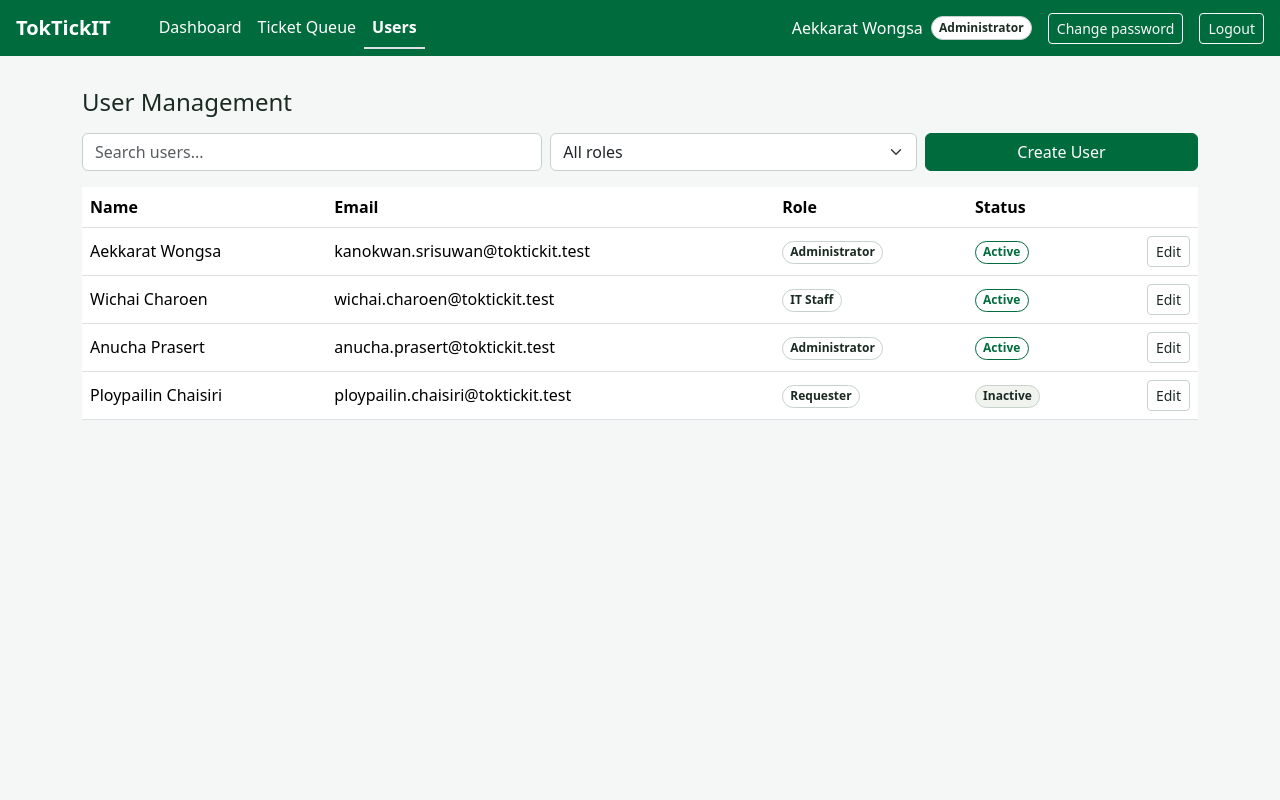
Test: User Management: creating a user › opens a panel with the fields the spec lists, moves focus to the first, and requires an initial password
Expected: the heading "User Management" is shown, [82,85,292,118]
Expected: the table is shown, [82,187,1198,420]
Click the button "Create User" at [1062, 152], box [925,133,1198,171]
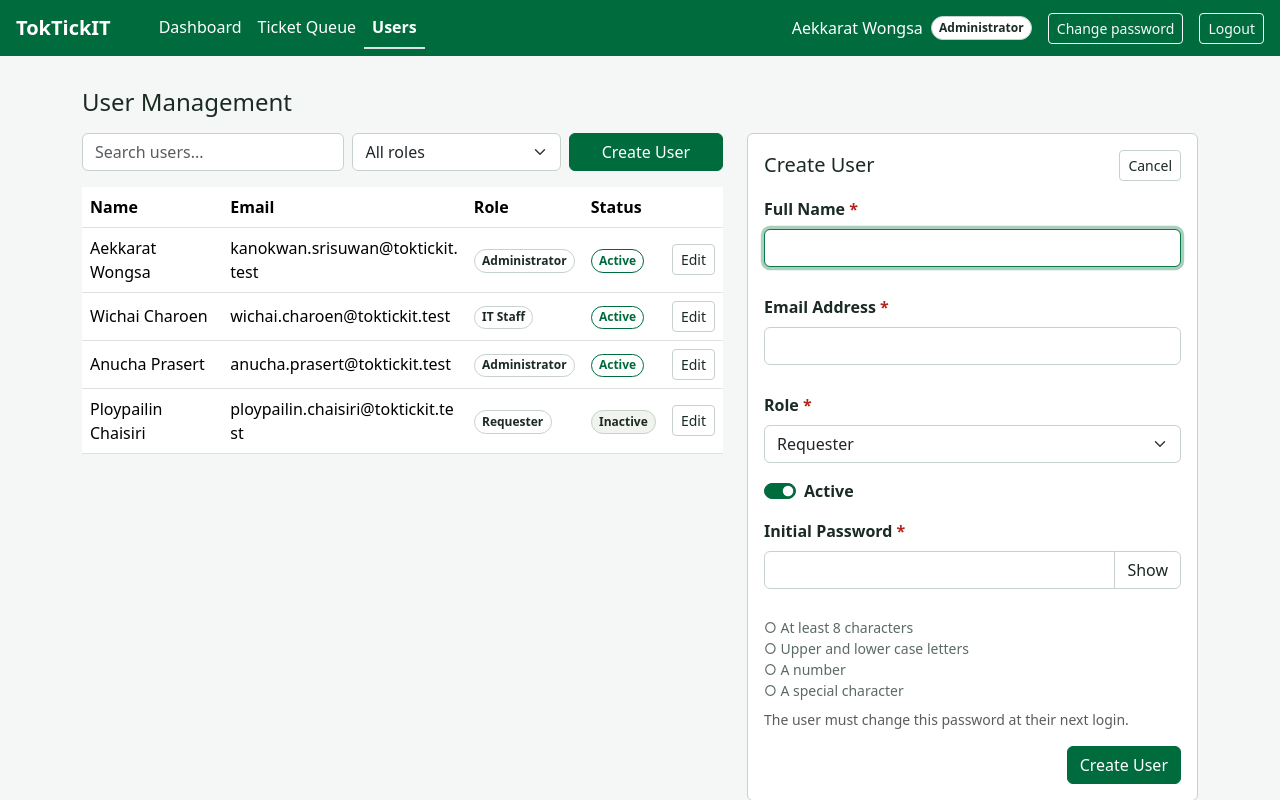
Expected: the heading "Create User" is shown, [764,153,874,177]
Expected: the password field labelled "Initial Password *" is shown, [764,551,1115,589]
Expected: the field labelled "Email Address *" is shown, [764,327,1181,365]
